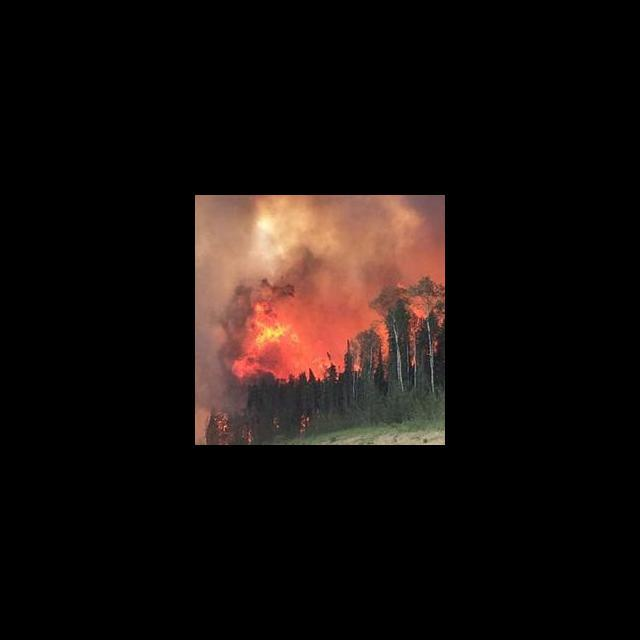Fire: (235, 243, 445, 386)
